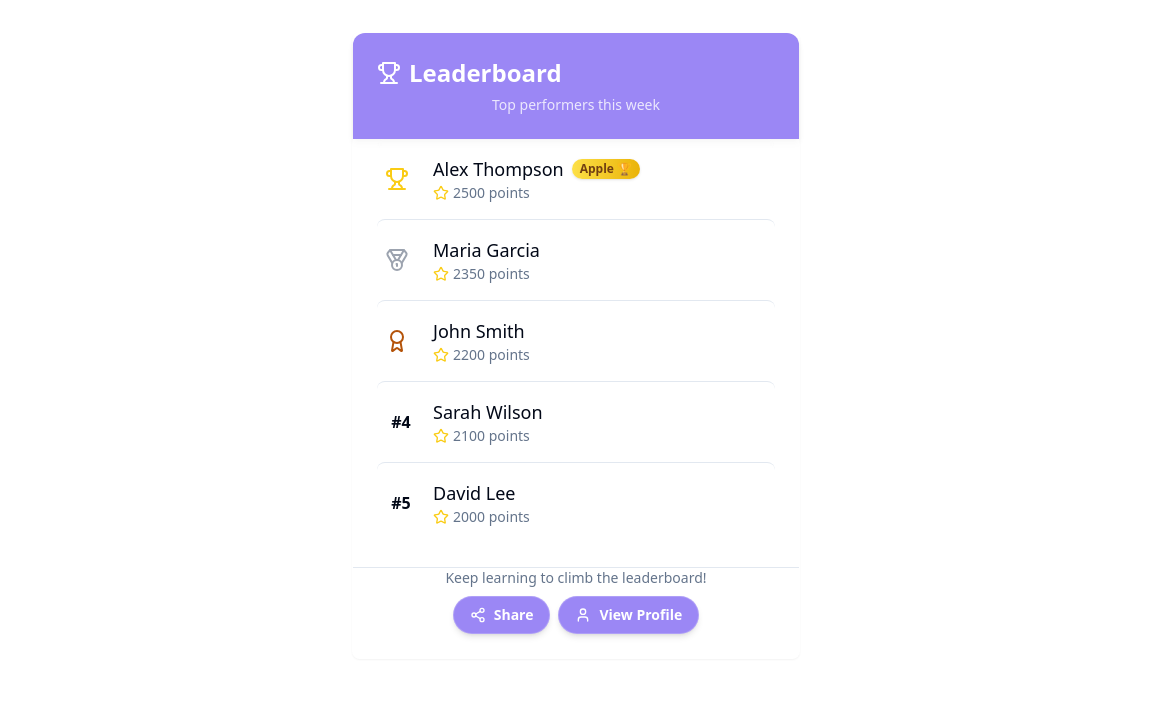
Leaderboard Component › share button opens dialog with animation
This screenshot has width=1152, height=720.
Find and click the share button
Click the button "Share".
click(502, 615)  # box left=453, top=596, right=550, bottom=634
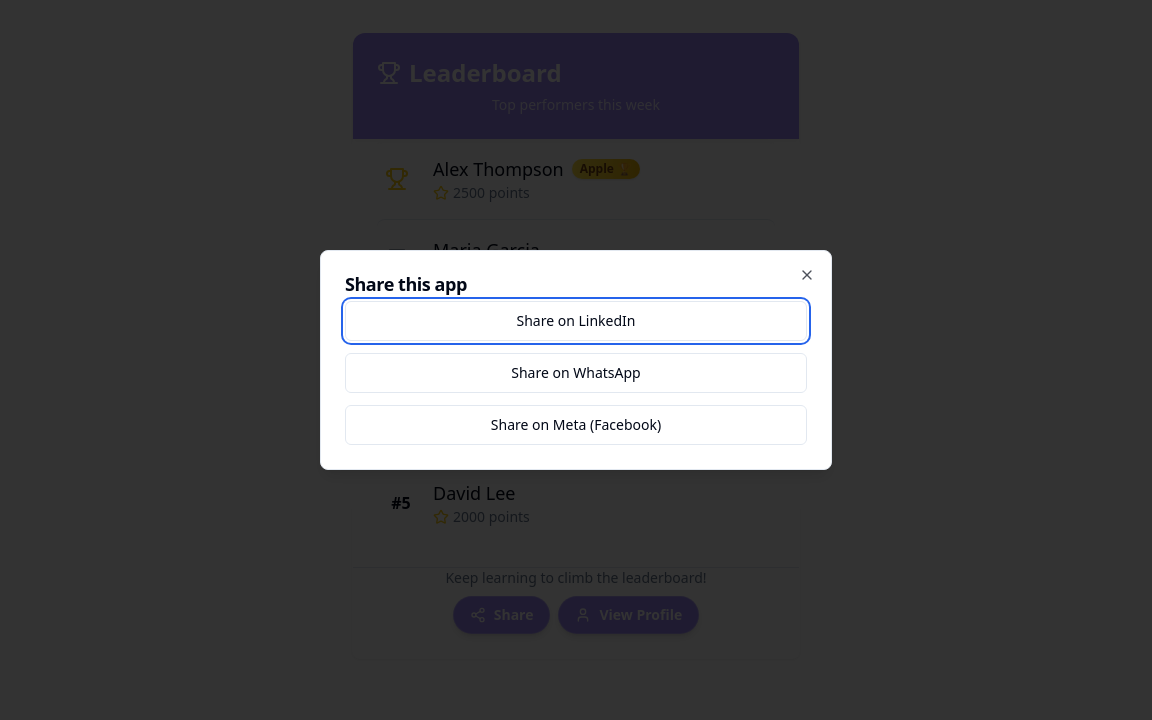
Result: the text "Share on LinkedIn" is shown at left=345, top=301, right=807, bottom=341
Result: the text "Share on WhatsApp" is shown at left=345, top=353, right=807, bottom=393
Result: the text "Share on Meta (Facebook)" is shown at left=345, top=405, right=807, bottom=445
